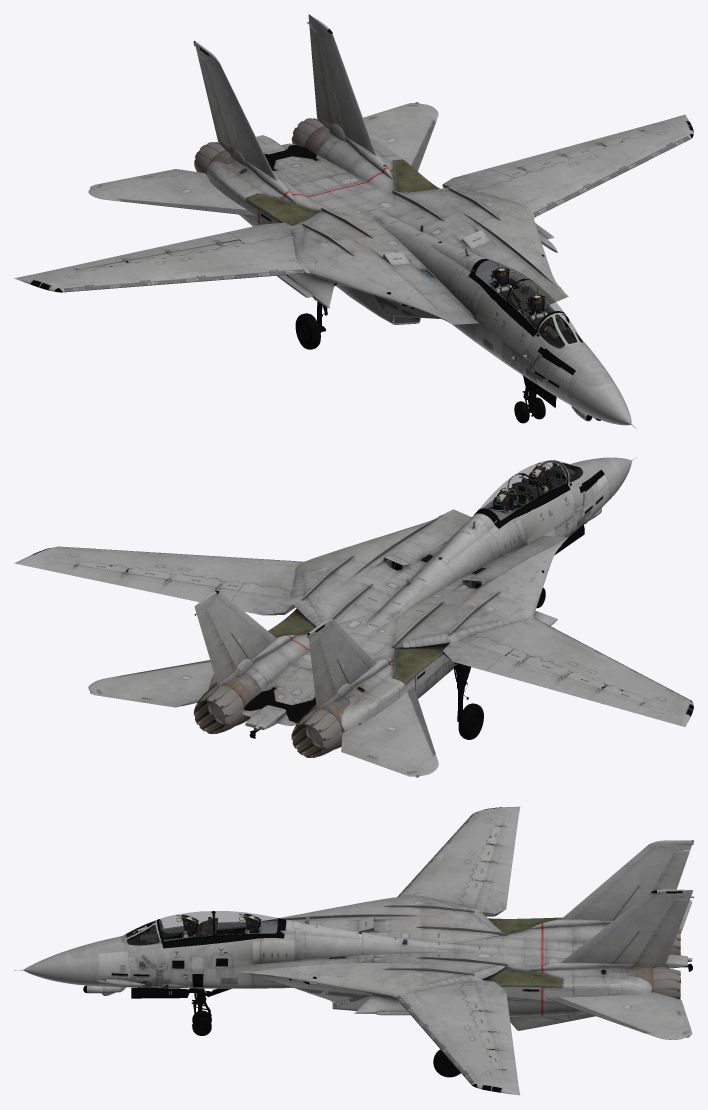
3 renders of one model, top to bottom at view 1: azimuth 30°, elevation 25°; view 2: azimuth 150°, elevation 25°; view 3: azimuth 270°, elevation 25°, orthographic. The views are drawn at different scales.
Visible parts, largest first — view 1: vehicle#fuse_79, vehicle#tail_157, vehicle#wing_r_180, vehicle#wing_l_166, vehicle#elevator1_159, vehicle#blister1_115, vehicle#elevator0_158, vehicle#slat_r_181, vehicle#slat_l_167, vehicle#rudder0_163, Meshpart10, vehicle#flap_l_168 (+6 smaller); view 2: vehicle#fuse_79, vehicle#tail_157, vehicle#wing_r_180, vehicle#wing_l_166, vehicle#elevator1_159, vehicle#elevator0_158, Meshpart10, vehicle#blister1_115, vehicle#flap_r_182, vehicle#flap_l_168, vehicle#rudder0_163, vehicle#slat_r_181 (+10 smaller); view 3: vehicle#fuse_79, vehicle#tail_157, vehicle#wing_l_166, vehicle#elevator0_158, vehicle#wing_r_180, vehicle#blister1_115, vehicle#rudder0_163, vehicle#slat_l_167, vehicle#flap_r_182, vehicle#flap_l_168, vehicle#slat_r_181, Meshpart10 (+8 smaller).
Boxes of the visible parts, <box> form: vehicle#fuse_79: <box>277,185,636,428</box>; vehicle#tail_157: <box>193,14,433,226</box>; vehicle#wing_r_180: <box>14,229,310,292</box>; vehicle#wing_l_166: <box>462,114,693,218</box>; vehicle#elevator1_159: <box>88,169,255,216</box>; vehicle#blister1_115: <box>468,259,566,336</box>; vehicle#elevator0_158: <box>363,102,438,171</box>; vehicle#slat_r_181: <box>62,260,305,292</box>; vehicle#slat_l_167: <box>524,133,689,216</box>; vehicle#rudder0_163: <box>309,26,331,129</box>; Meshpart10: <box>194,118,324,173</box>; vehicle#flap_l_168: <box>486,122,663,172</box>; vehicle#fuse_79: <box>283,457,636,695</box>; vehicle#tail_157: <box>194,591,435,749</box>; vehicle#wing_r_180: <box>461,615,693,726</box>; vehicle#wing_l_166: <box>14,546,305,598</box>; vehicle#elevator1_159: <box>341,686,438,777</box>; vehicle#elevator0_158: <box>88,660,214,707</box>; Meshpart10: <box>193,685,342,757</box>; vehicle#blister1_115: <box>474,460,570,528</box>; vehicle#flap_r_182: <box>486,660,663,719</box>; vehicle#flap_l_168: <box>42,563,235,601</box>; vehicle#rudder0_163: <box>197,610,237,686</box>; vehicle#slat_r_181: <box>524,617,688,699</box>; vehicle#fuse_79: <box>14,896,507,1015</box>; vehicle#tail_157: <box>504,840,693,1030</box>; vehicle#wing_l_166: <box>392,982,519,1095</box>; vehicle#elevator0_158: <box>546,992,692,1039</box>; vehicle#wing_r_180: <box>399,806,520,907</box>; vehicle#blister1_115: <box>157,911,286,948</box>; vehicle#rudder0_163: <box>633,899,689,967</box>; vehicle#slat_l_167: <box>395,993,478,1084</box>; vehicle#flap_r_182: <box>482,816,518,894</box>; vehicle#flap_l_168: <box>480,1003,518,1083</box>; vehicle#slat_r_181: <box>397,814,478,896</box>; Meshpart10: <box>653,929,680,999</box>.
Bounding box in the file's own units: 19.53 × 5.56 × 19.42.
Materials: 22 (16 with a texture image).
